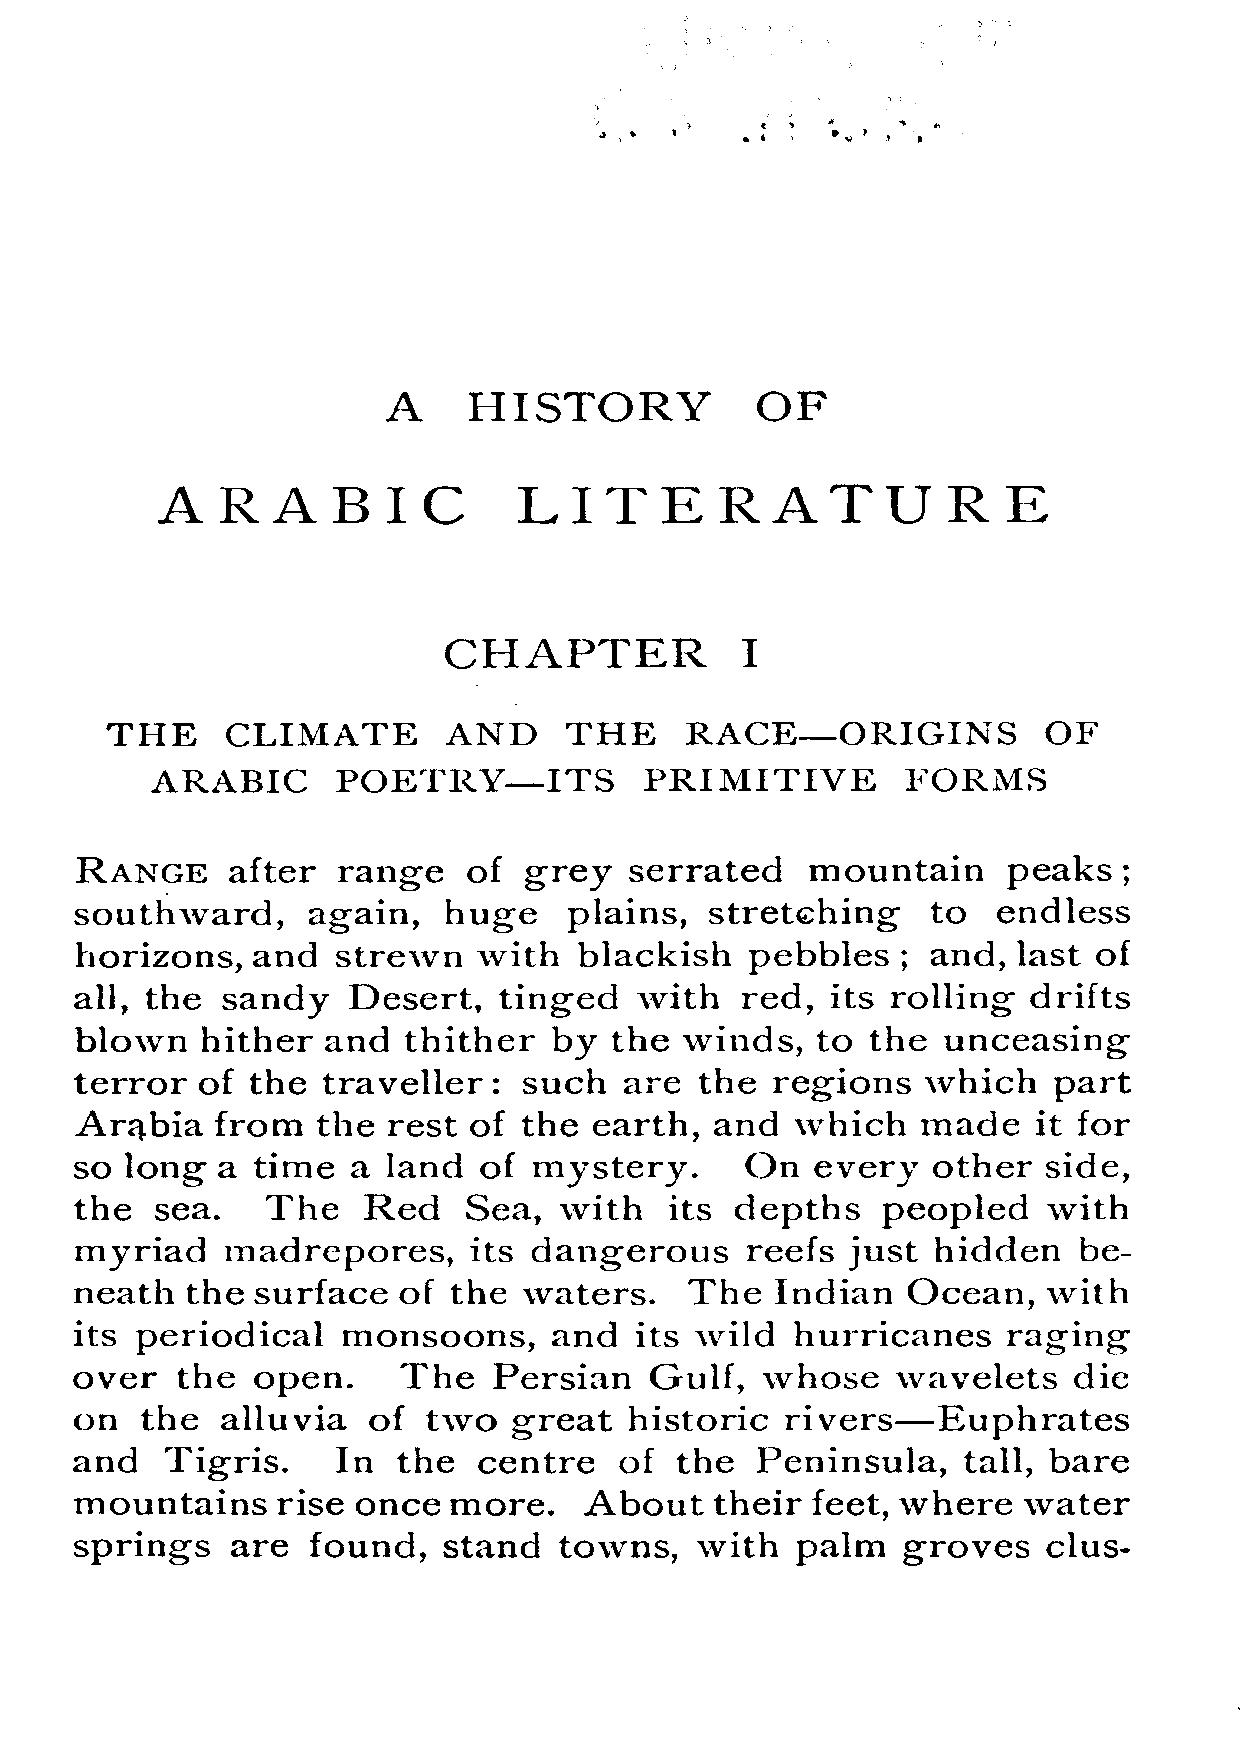chapter: (103, 636, 1100, 796), (154, 388, 1048, 527)
content: (70, 854, 1133, 1567)
